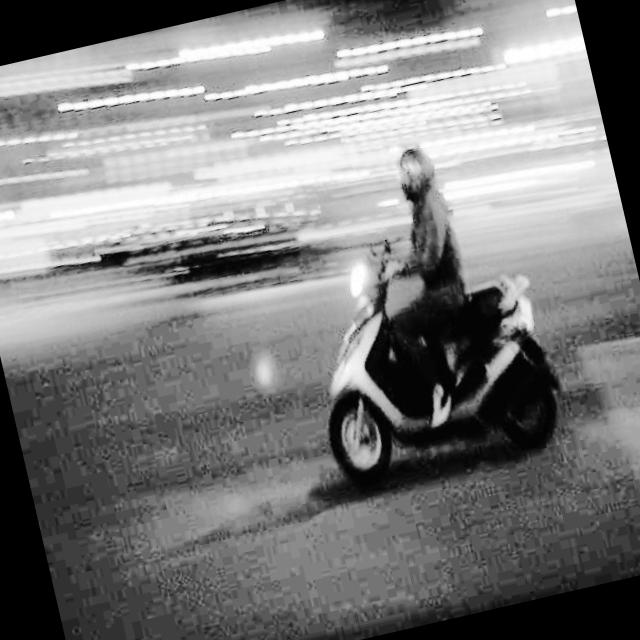Motorcycle: (290, 228, 569, 495)
Person: (343, 138, 482, 356)
